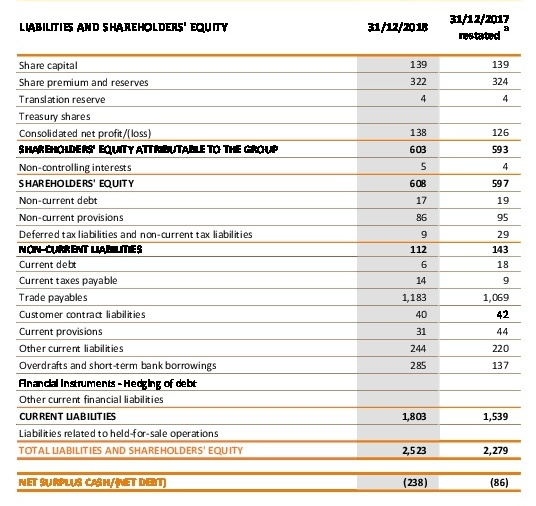table: (0, 0, 536, 506)
